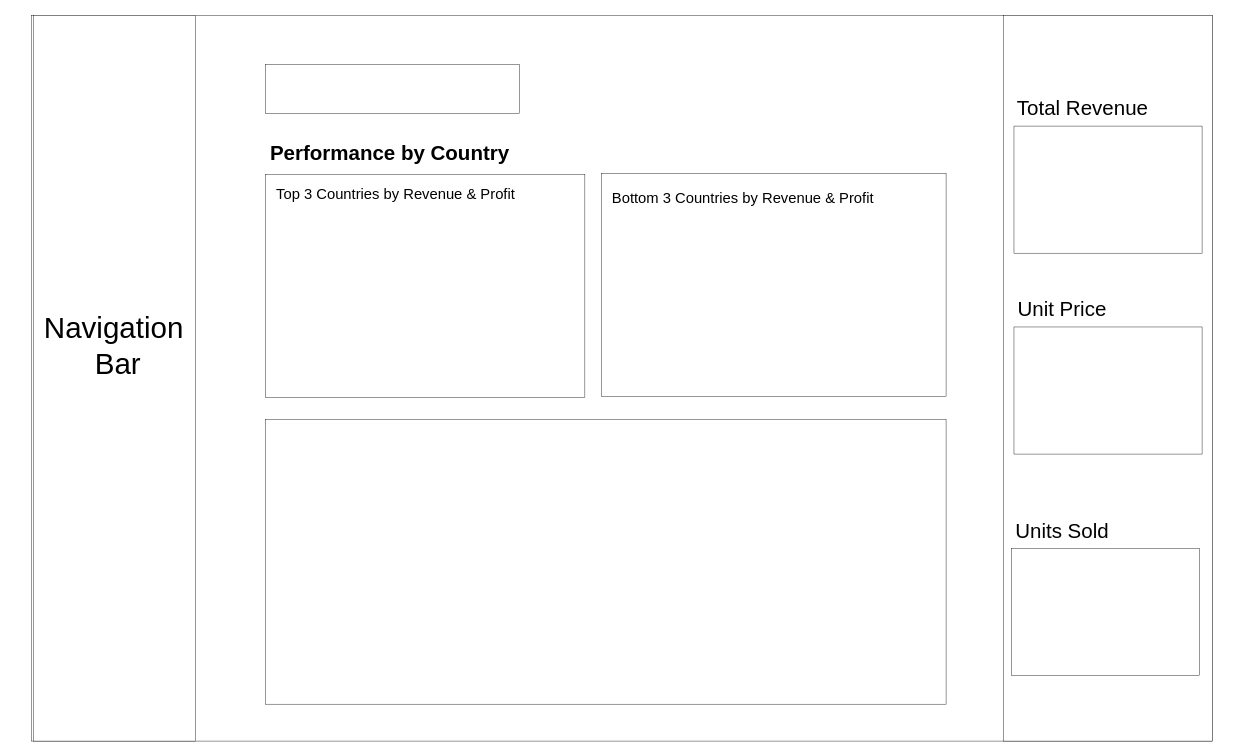
Some shapes in this 1255 by 748 pixel diagram are drawn without their labels. The centre of each missing label's shape, as x and y in pixels:
"Sales Dashboard" goes at point 392,89.
"Total units sold per country" goes at point 605,561.
